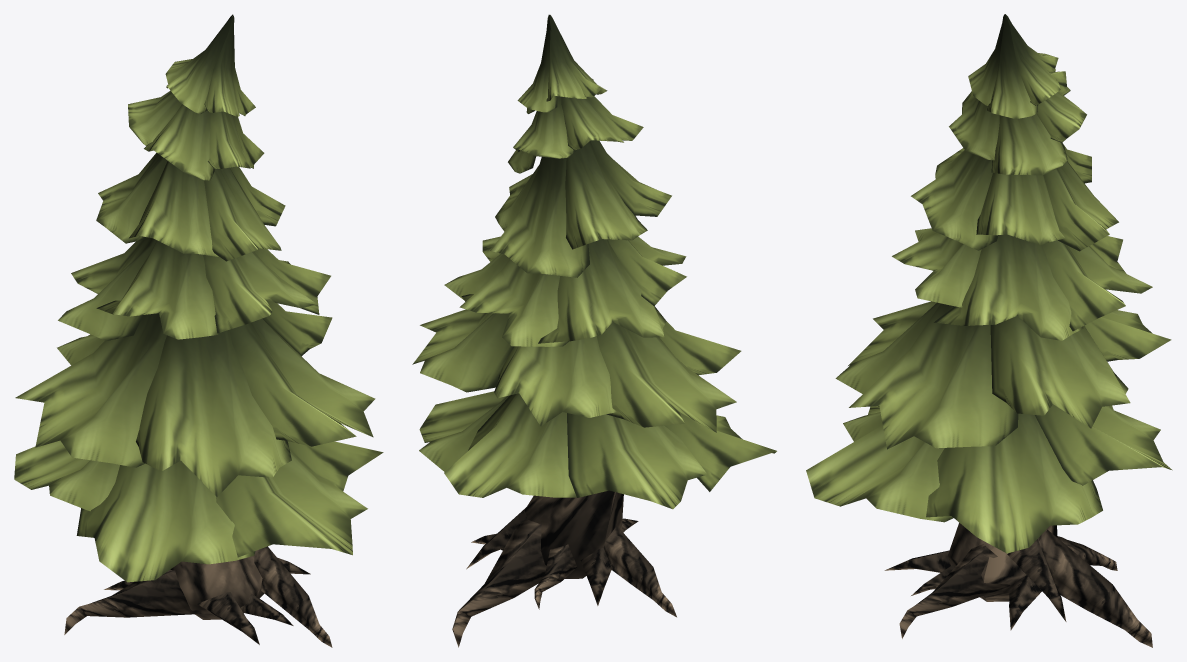
The model's file is assets_spruce_full.fbx.
The picture shows the model from 3 angles, left to right: view 1: azimuth 30°, elevation 25°; view 2: azimuth 150°, elevation 25°; view 3: azimuth 270°, elevation 25°; orthographic projection. The views are drawn at different scales.
Parts seen in each view (by area): view 1: assets_spruce_full_canopy, assets_spruce_full_trunk; view 2: assets_spruce_full_canopy, assets_spruce_full_trunk; view 3: assets_spruce_full_canopy, assets_spruce_full_trunk.
Boxes of the visible parts, left/top/right/bottom form: assets_spruce_full_canopy: left=14, top=14, right=383, bottom=582; assets_spruce_full_trunk: left=64, top=546, right=332, bottom=647; assets_spruce_full_canopy: left=412, top=14, right=776, bottom=509; assets_spruce_full_trunk: left=452, top=490, right=676, bottom=647; assets_spruce_full_canopy: left=806, top=14, right=1172, bottom=553; assets_spruce_full_trunk: left=884, top=522, right=1152, bottom=647.
Size of the model in its own units: 19.04 by 34.97 by 18.66.
